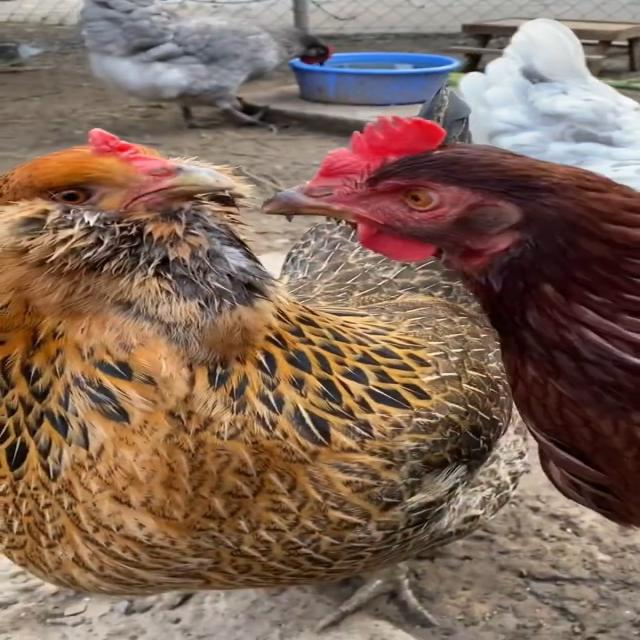allo preening: (0, 105, 637, 585)
